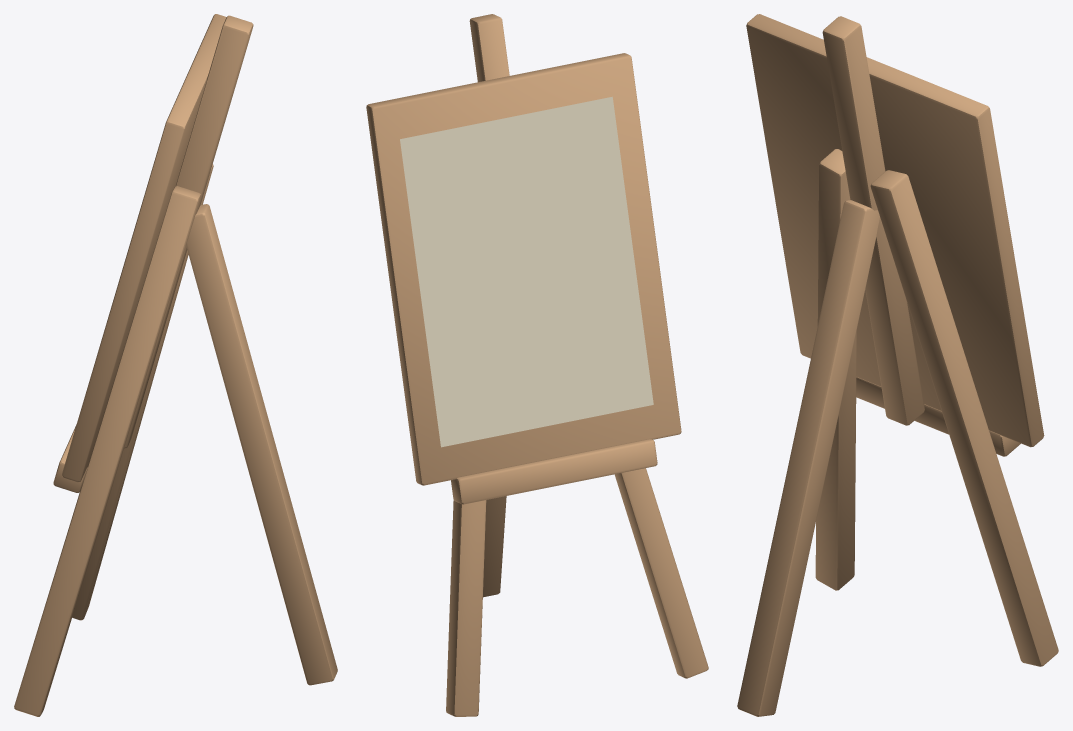
The model's file is artboard-transformed.glb.
3 views of the same model, side by side, from view 1: azimuth 30°, elevation 25°; view 2: azimuth 150°, elevation 25°; view 3: azimuth 270°, elevation 25° (orthographic). The views are drawn at different scales.
Parts seen in each view (by area): view 1: Merged Geometry.001; view 2: Rectangle 2, Merged Geometry.001; view 3: Merged Geometry.001.
Boxes of the visible parts, left/top/right/bottom form: Merged Geometry.001: left=14, top=14, right=337, bottom=716; Rectangle 2: left=400, top=96, right=653, bottom=447; Merged Geometry.001: left=366, top=14, right=708, bottom=716; Merged Geometry.001: left=737, top=14, right=1058, bottom=716.
Size of the model in its own units: 0.8847 by 1.9 by 0.8221.
